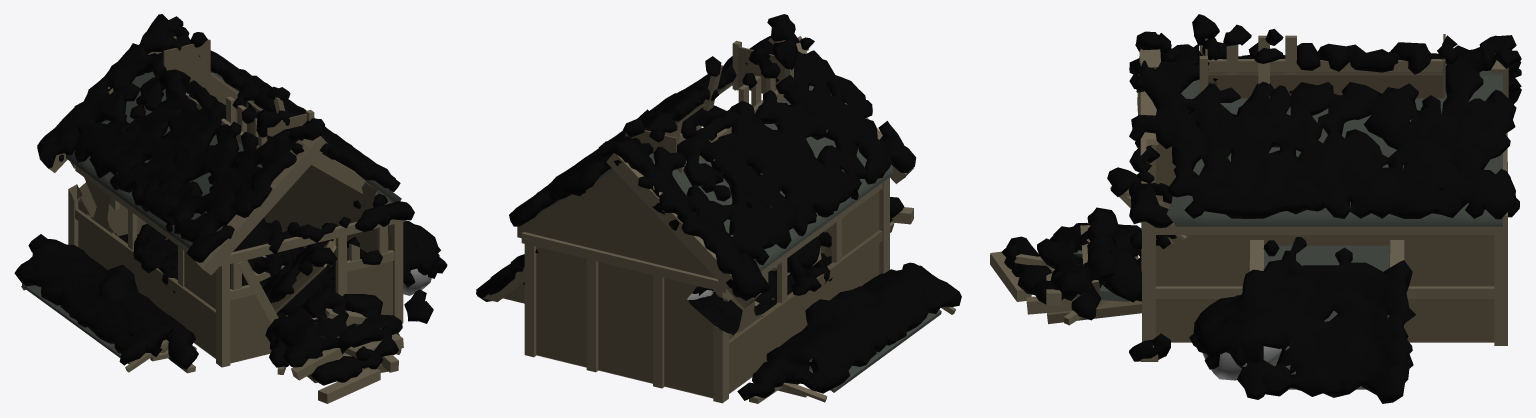
The model's file is Maison_ruine_neige.fbx.
The picture shows the model from 3 angles, left to right: view 1: azimuth 30°, elevation 25°; view 2: azimuth 150°, elevation 25°; view 3: azimuth 270°, elevation 25°; orthographic projection. The views are drawn at different scales.
Visible parts, largest first — view 1: snow, maison_ruine; view 2: snow, maison_ruine; view 3: snow, maison_ruine.
Boxes of the visible parts, <box> form: snow: <box>14,14,447,385</box>; maison_ruine: <box>21,36,431,403</box>; snow: <box>476,14,961,400</box>; maison_ruine: <box>483,36,955,403</box>; snow: <box>1001,14,1521,403</box>; maison_ruine: <box>990,34,1508,389</box>.
Bounding box in the file's own units: 124 × 76.17 × 135.
